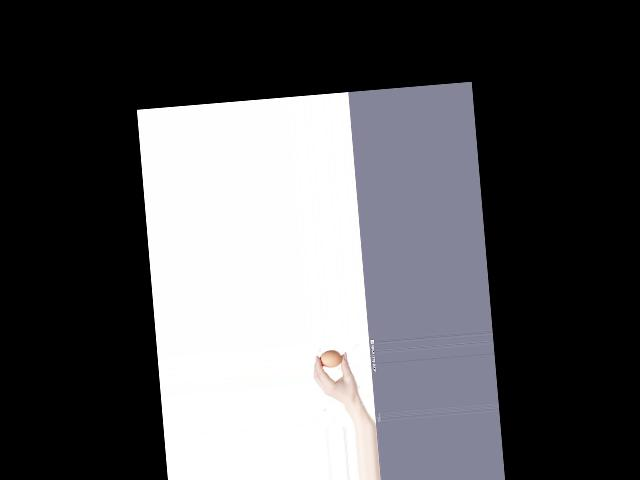egg: (319, 349, 343, 369)
